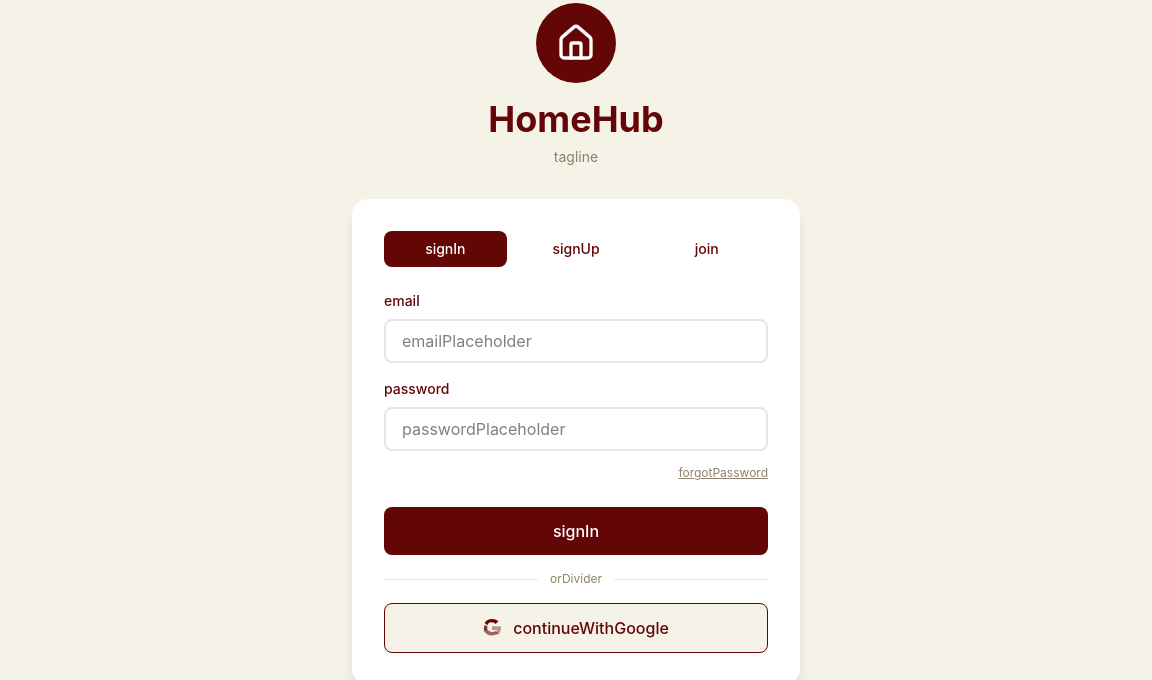
Test: Join Flow edge cases › [13] valid invite code → welcome screen shown after joining
The image size is (1152, 680).
Click the button "join" at {"x": 707, "y": 249}, box [645,231,768,267]
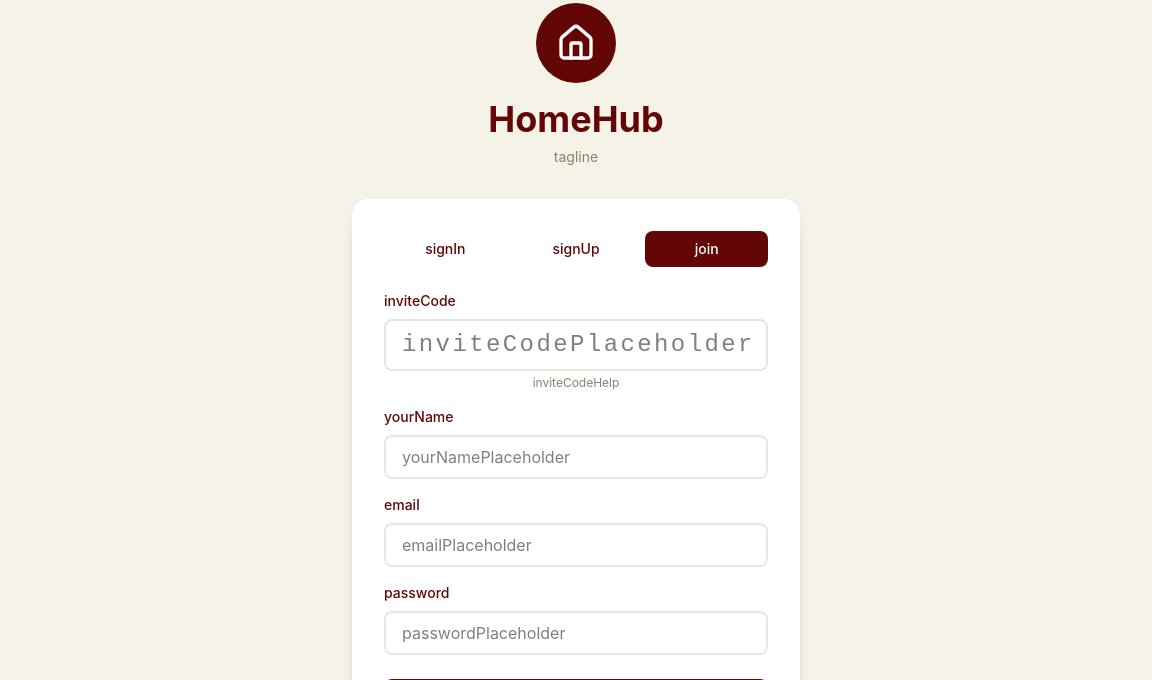
Type "VALIDCOD" into the field with placeholder "inviteCodePlaceholder" at {"x": 576, "y": 345}, box [384,319,768,371]
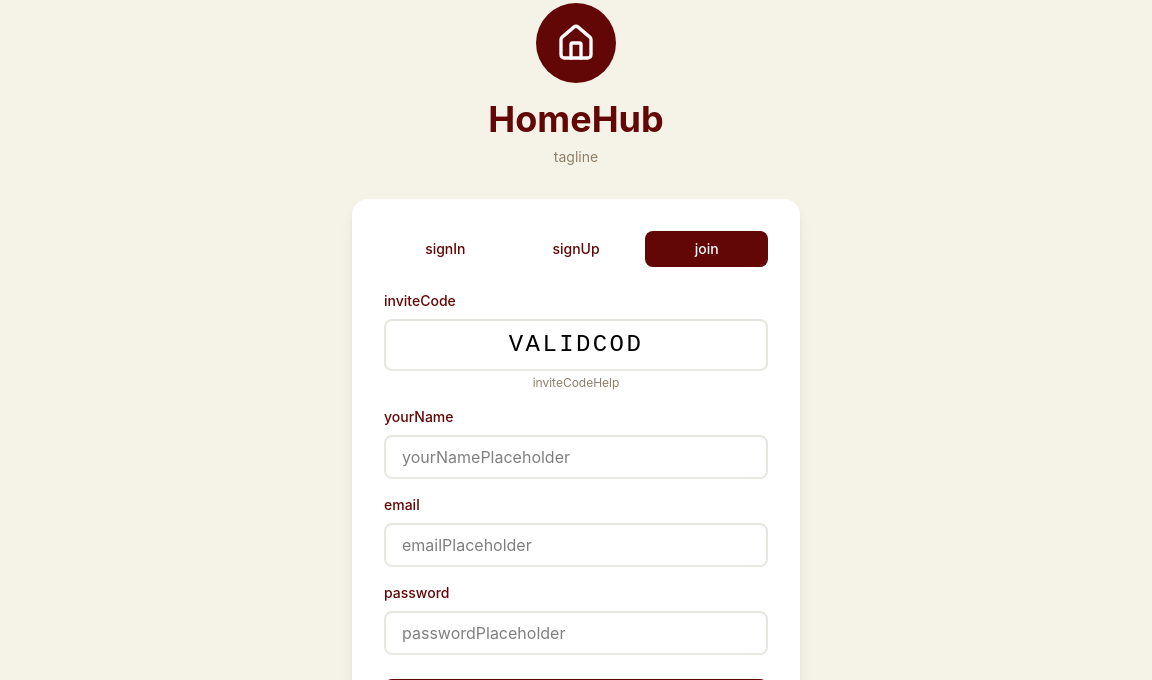
Type "Partner" into the field with placeholder "yourNamePlaceholder" at {"x": 576, "y": 457}, box [384,435,768,479]
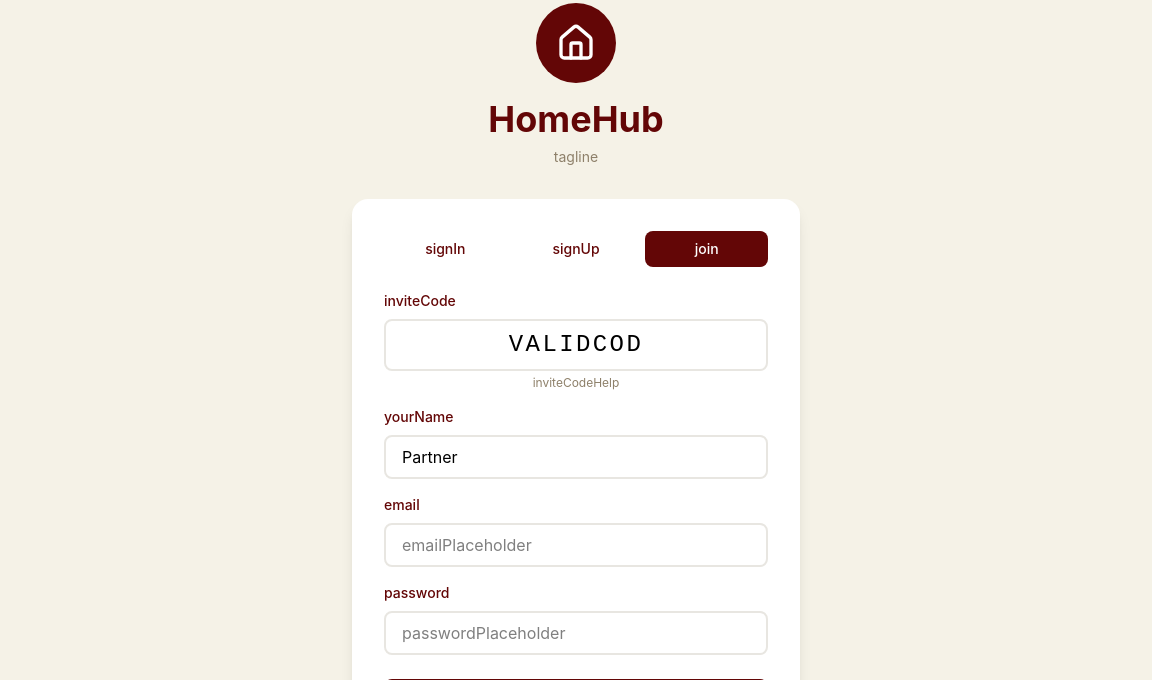
Type "partner@email.com" into the field with placeholder "emailPlaceholder" at {"x": 576, "y": 545}, box [384,523,768,567]
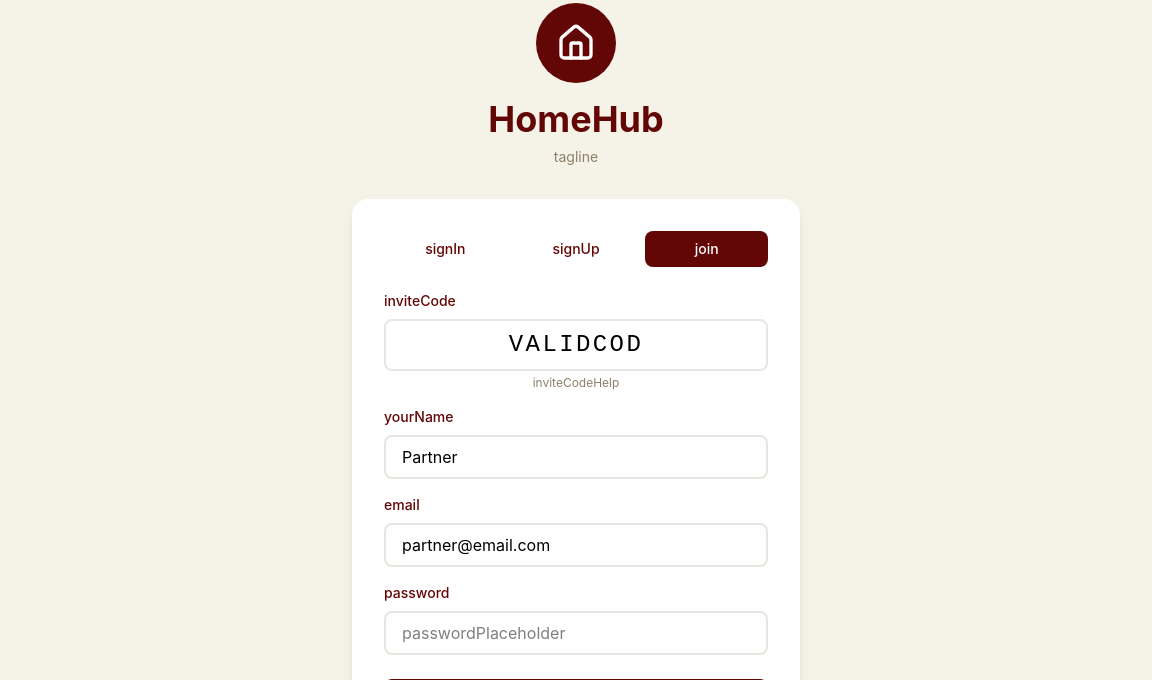
Type "password123" into the password field with placeholder "passwordPlaceholder" at {"x": 576, "y": 633}, box [384,611,768,655]
(page scrolled)
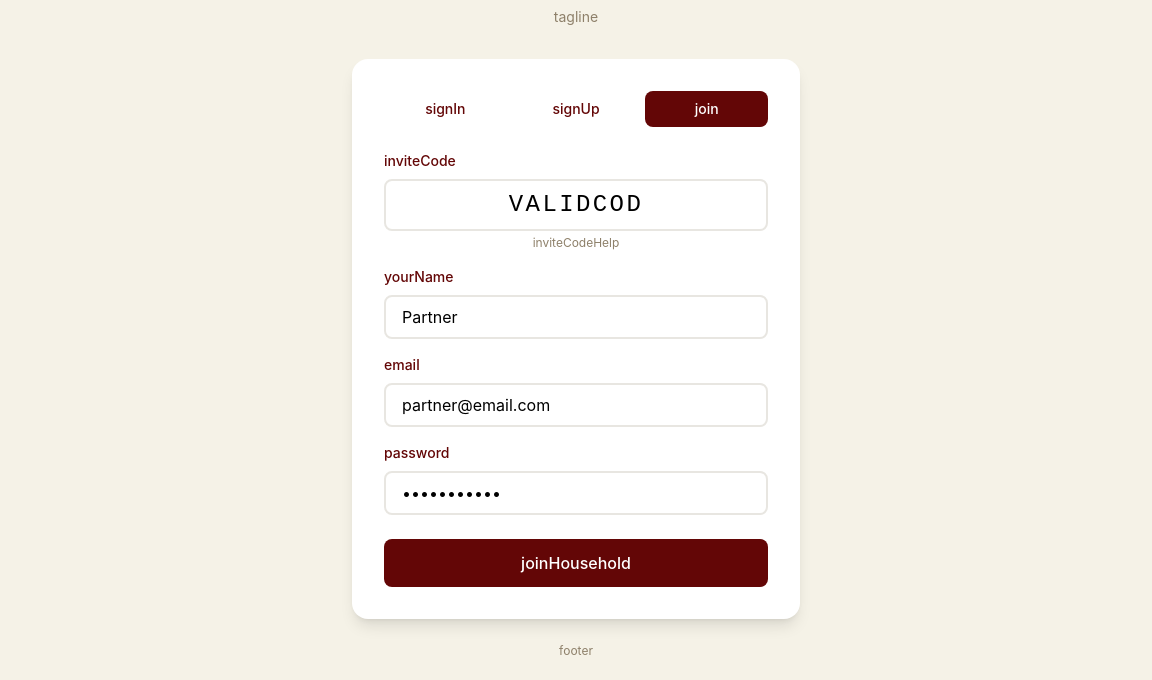
Click the button "joinHousehold" at {"x": 576, "y": 563}, box [384,539,768,587]
(page scrolled)
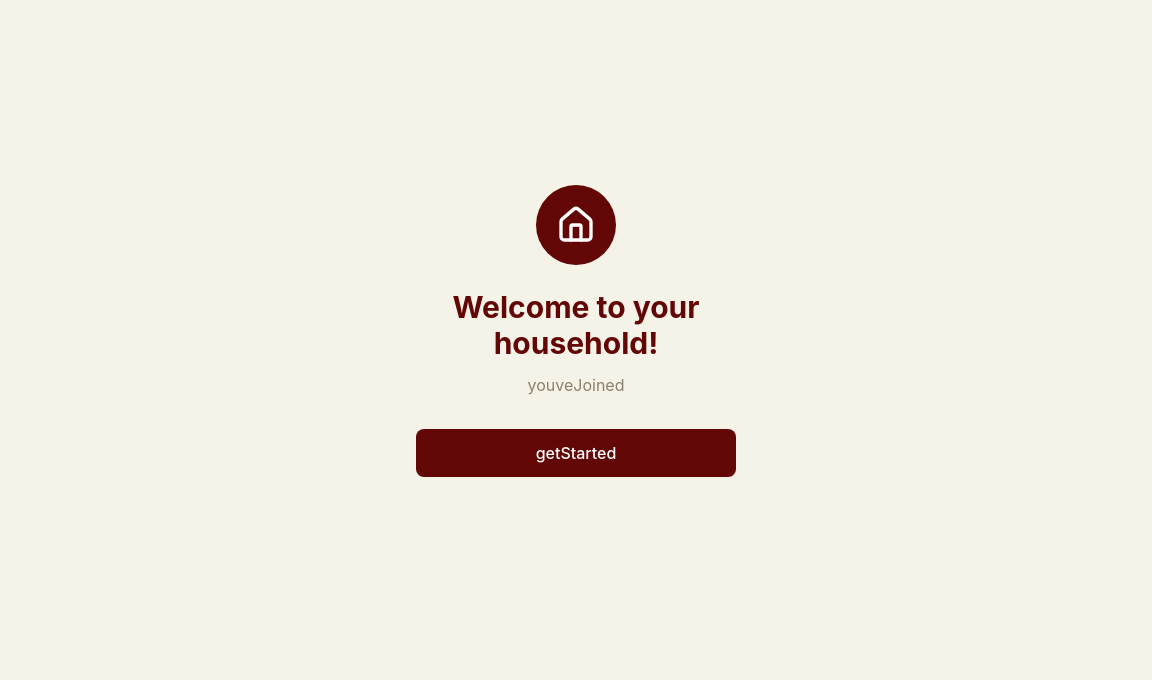
Expected: the heading "Welcome to your household!" is shown, [452,289,700,361]
